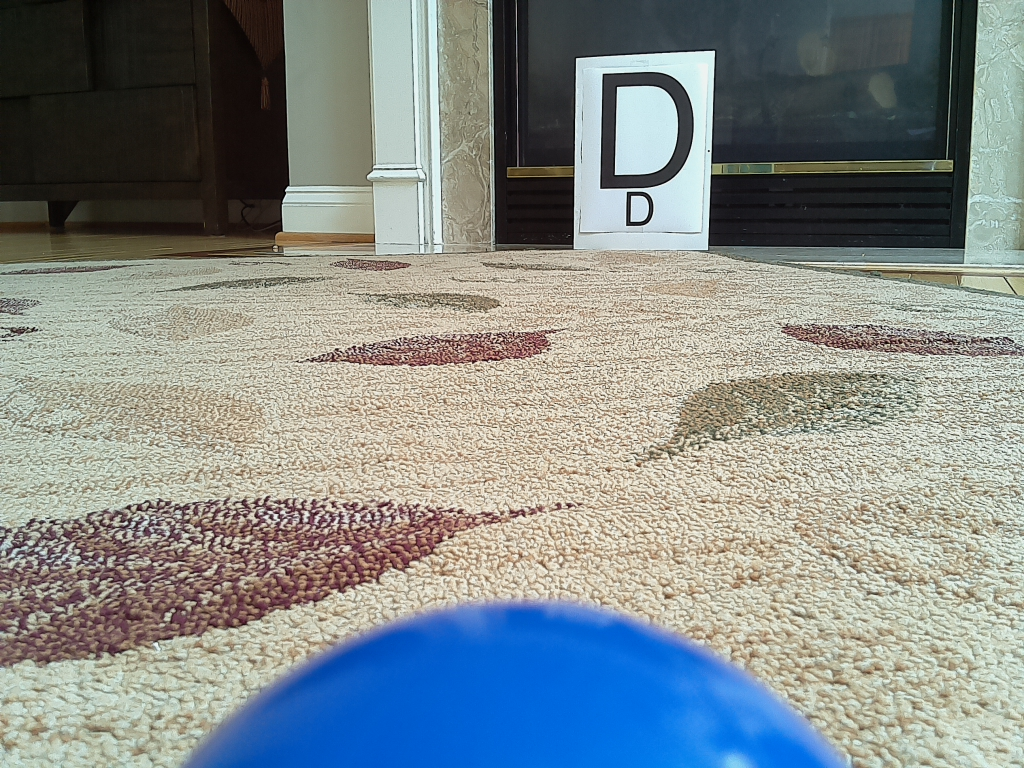letter: (603, 73, 695, 189)
